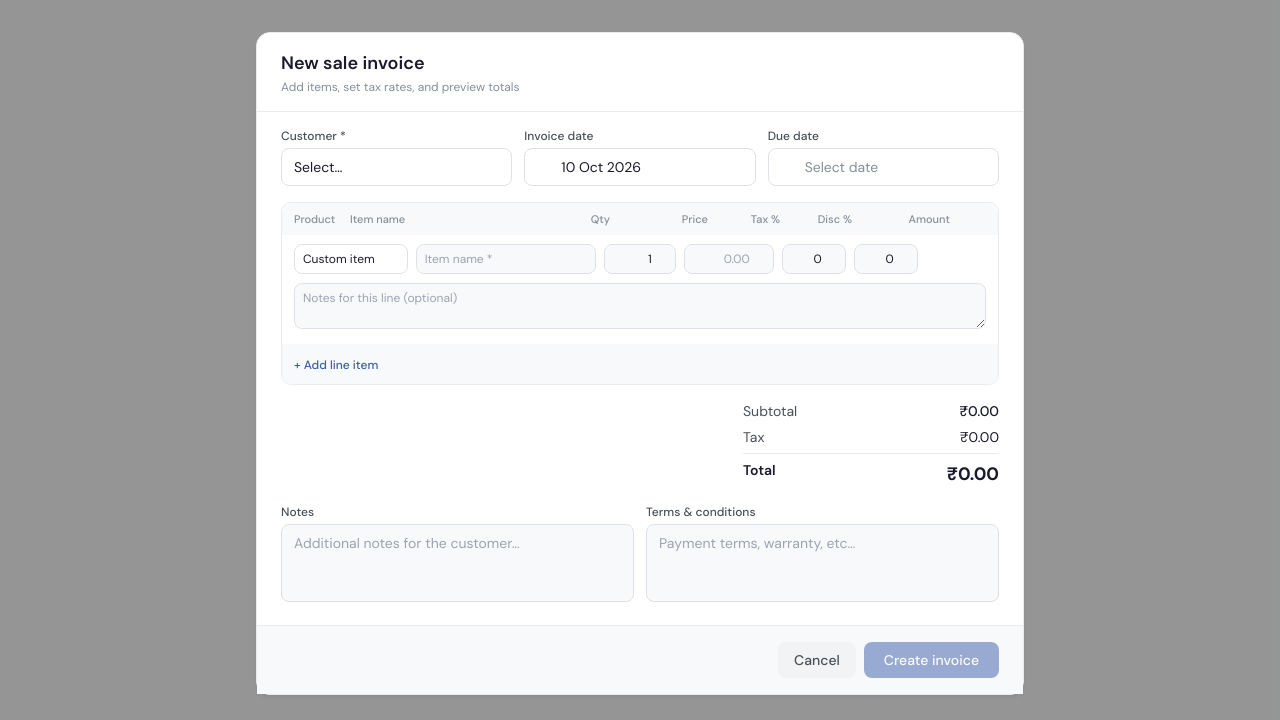
Scenario: InvoiceCreator — invoice creation form with real-time GST calculations › form structure › adds a new line item row when '+ Add line item' is clicked, enabling multi-item invoices
Click the button "+ Add line item" at (336, 365), box [294, 357, 378, 373]
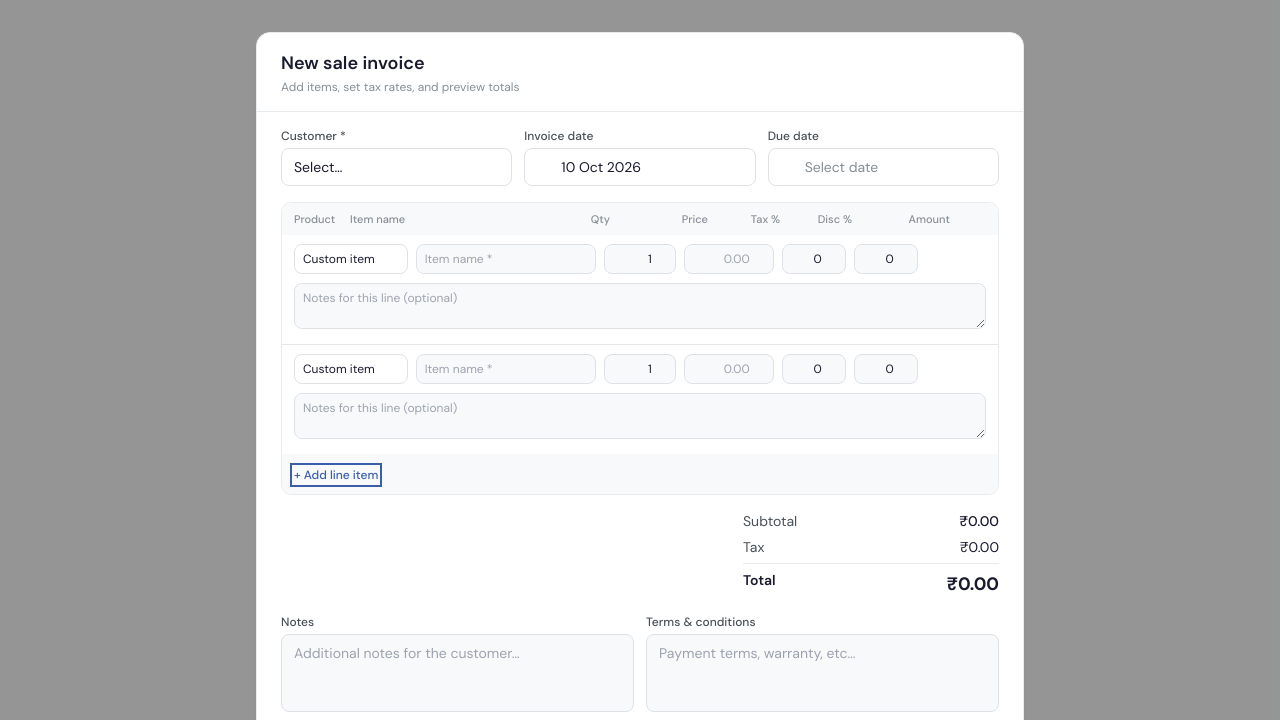
Now the number of fields with placeholder "Item name *" is 2, box [416, 244, 596, 274]; [416, 354, 596, 384]
